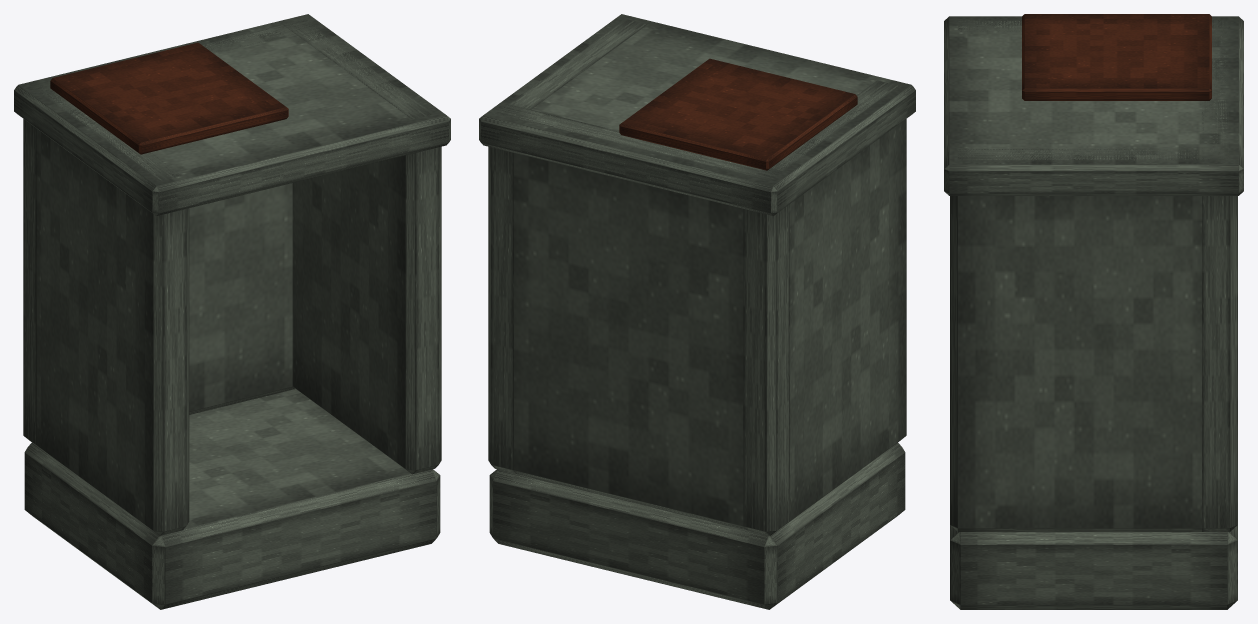
The model's file is THStage_FindSupport_17.fbx.
3 renders of one model, left to right at view 1: azimuth 30°, elevation 25°; view 2: azimuth 150°, elevation 25°; view 3: azimuth 270°, elevation 25°, orthographic. The views are drawn at different scales.
Parts seen in each view (by area): view 1: THStage_FindSupport_17.013; view 2: THStage_FindSupport_17.013; view 3: THStage_FindSupport_17.013.
Part boxes in pixels (bbox=[...]): THStage_FindSupport_17.013: bbox=[14, 14, 450, 609]; THStage_FindSupport_17.013: bbox=[479, 14, 915, 609]; THStage_FindSupport_17.013: bbox=[944, 14, 1243, 609].
Bounding box in the file's own units: 0.414 × 0.586 × 0.344.
1 material, 1 textured.
